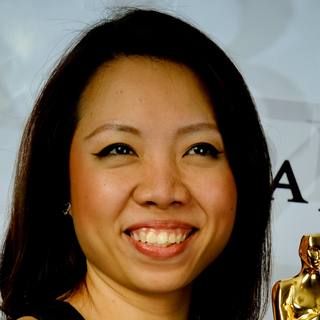eye: (176, 139, 226, 164), (92, 139, 141, 164)
